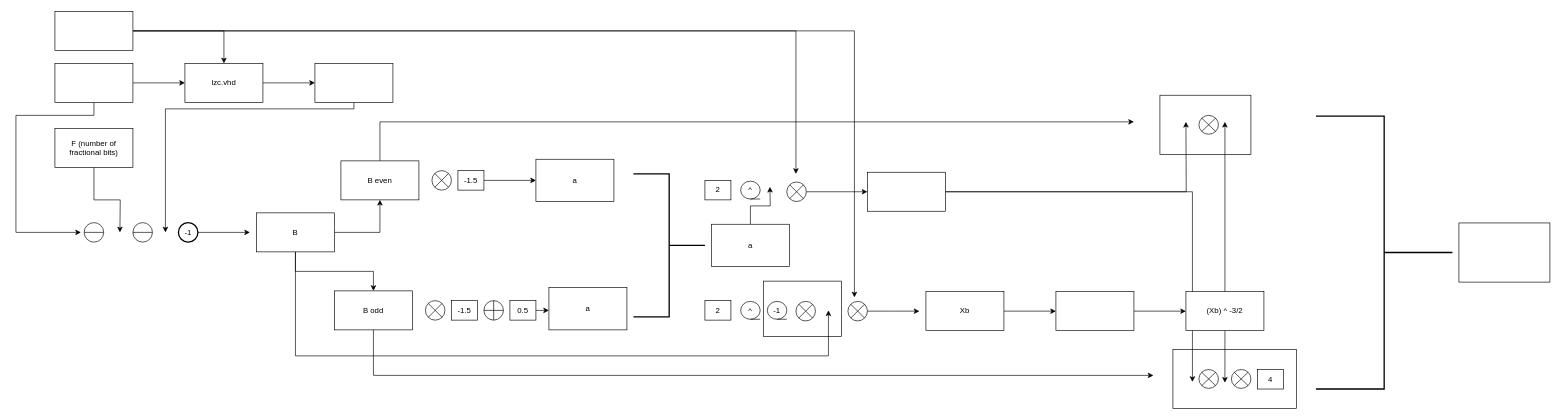
The diagram is 1561 pixels wide and 420 high, and some of its shapes have lost their labels. Each missing label, with the centre of its shape:
LUT: pixel 1094 311
Vector x: pixel 93 30
W (size of vector): pixel 93 82
Xa: pixel 906 191
y0: pixel 1504 252
Z (number of leading 0s): pixel 353 82
